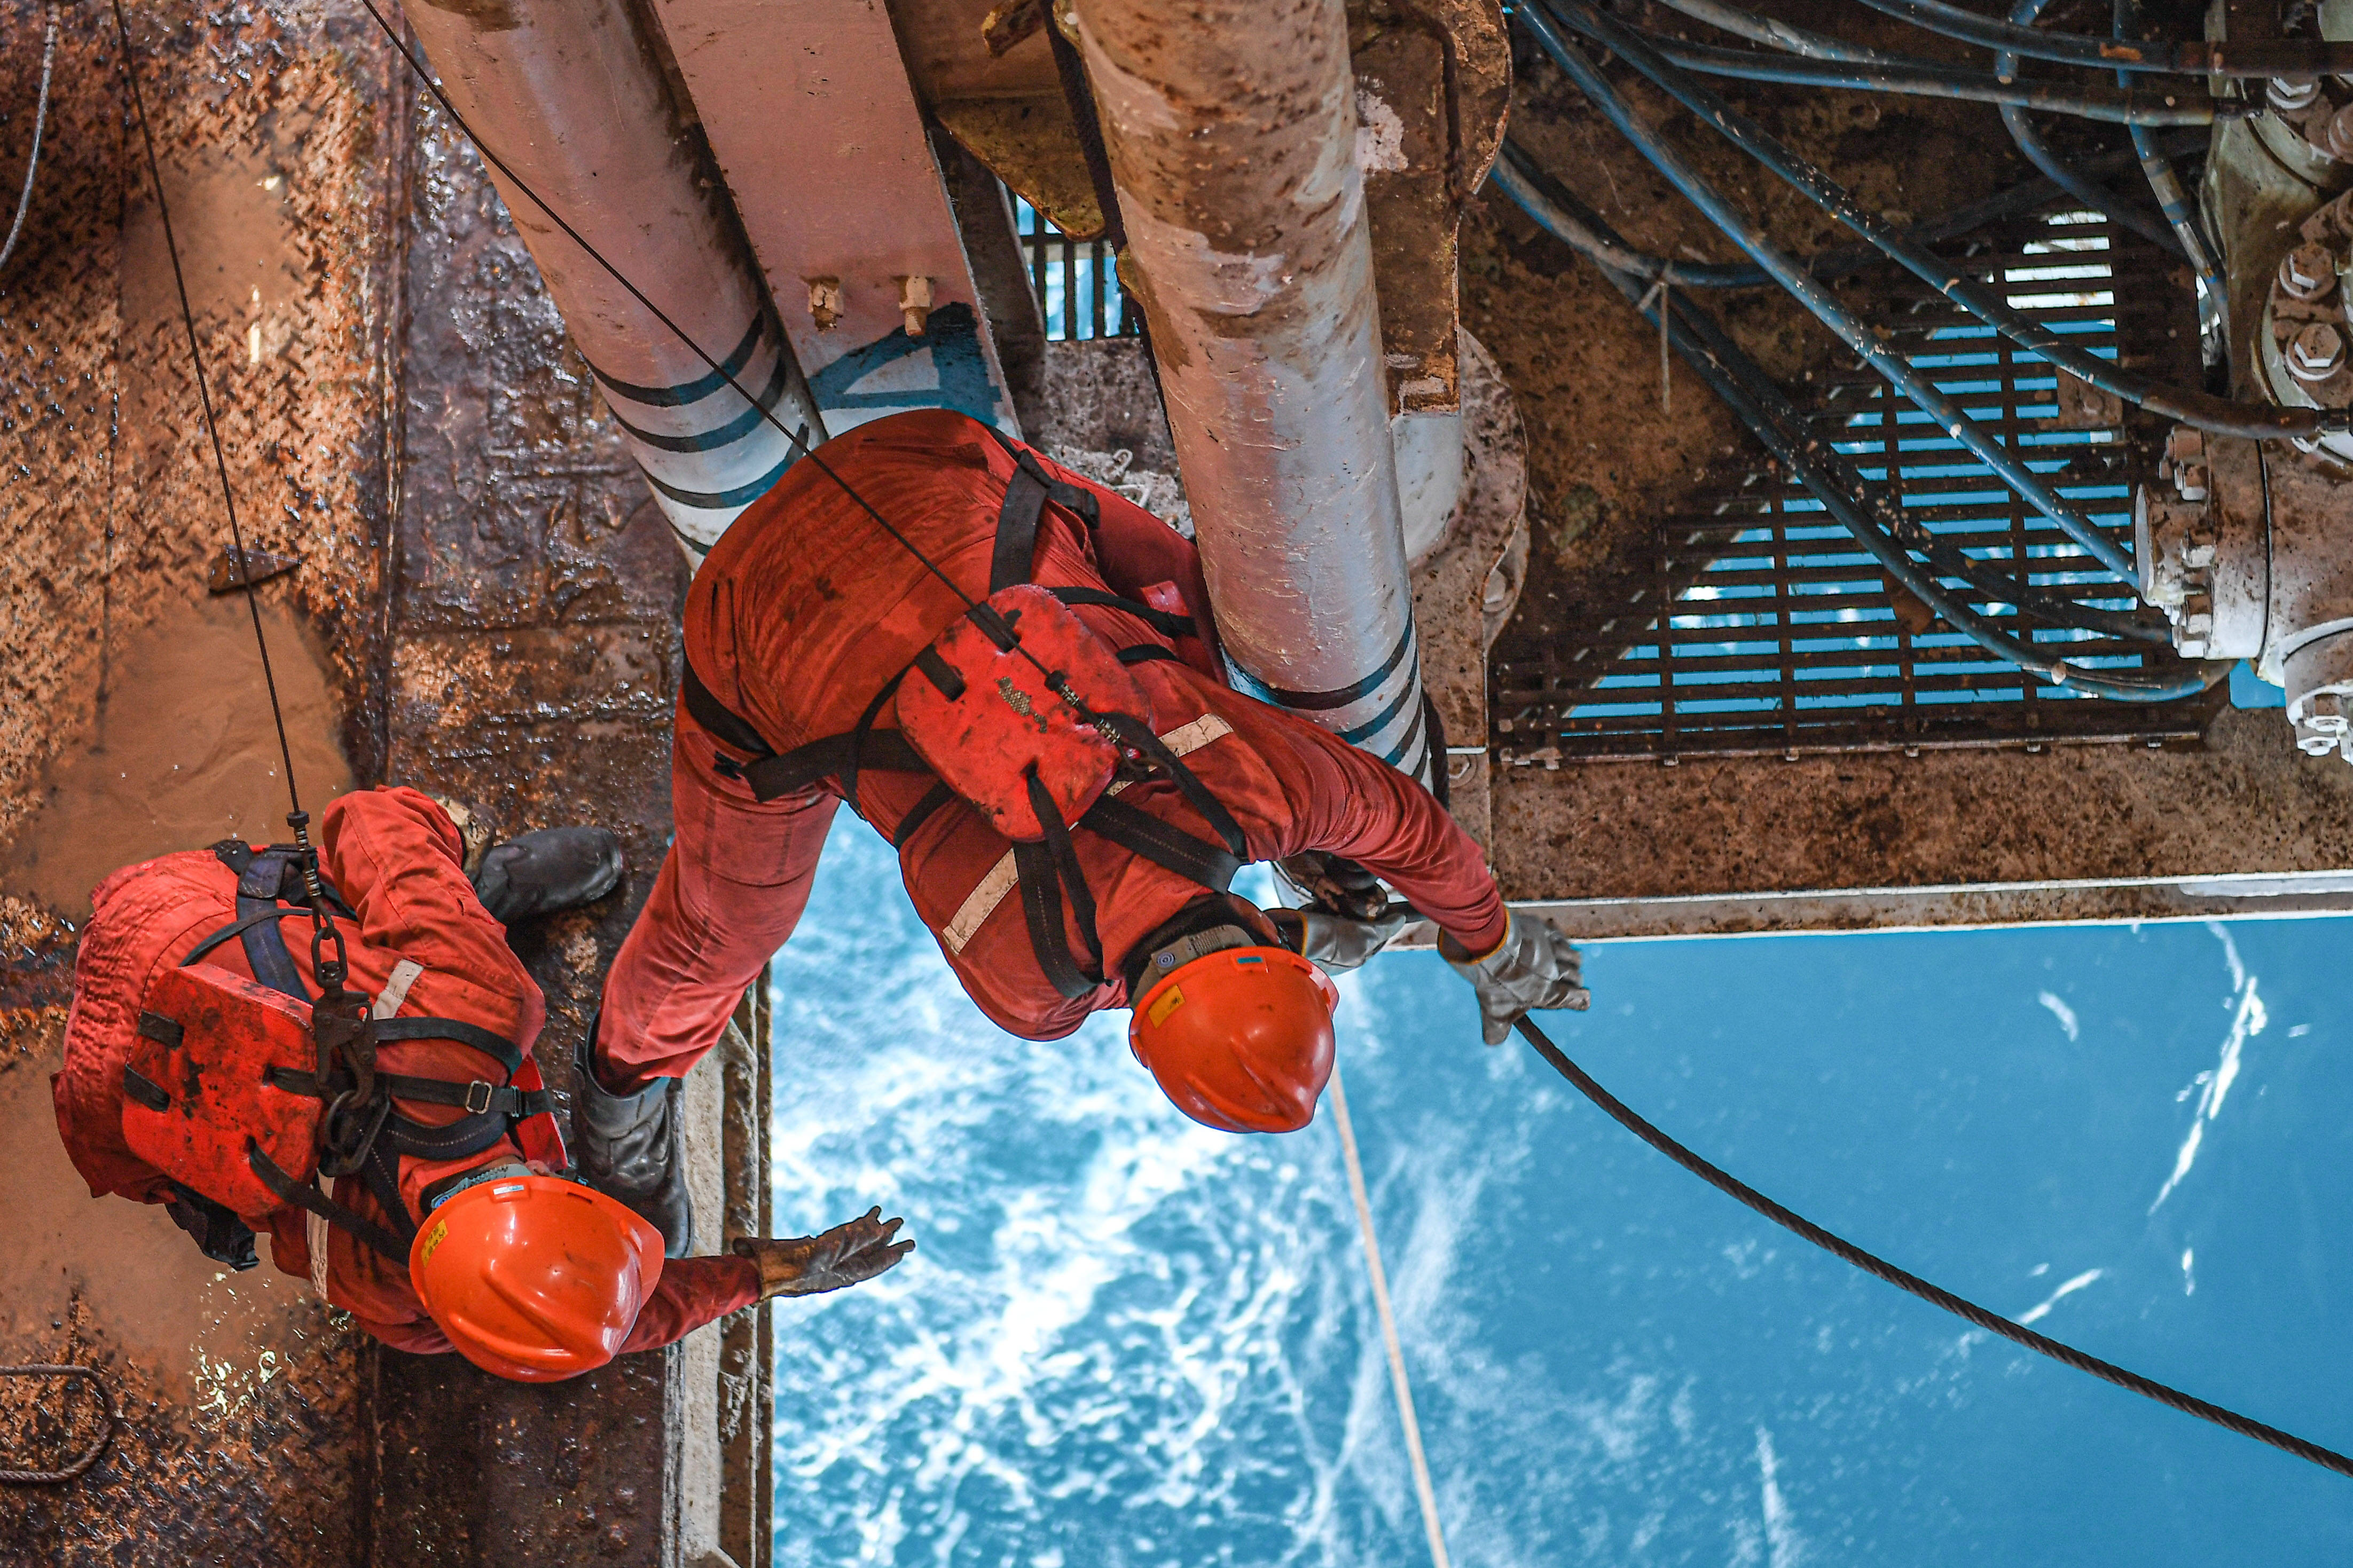safetyhat: (679, 450, 1595, 1150), (11, 784, 676, 1466)
